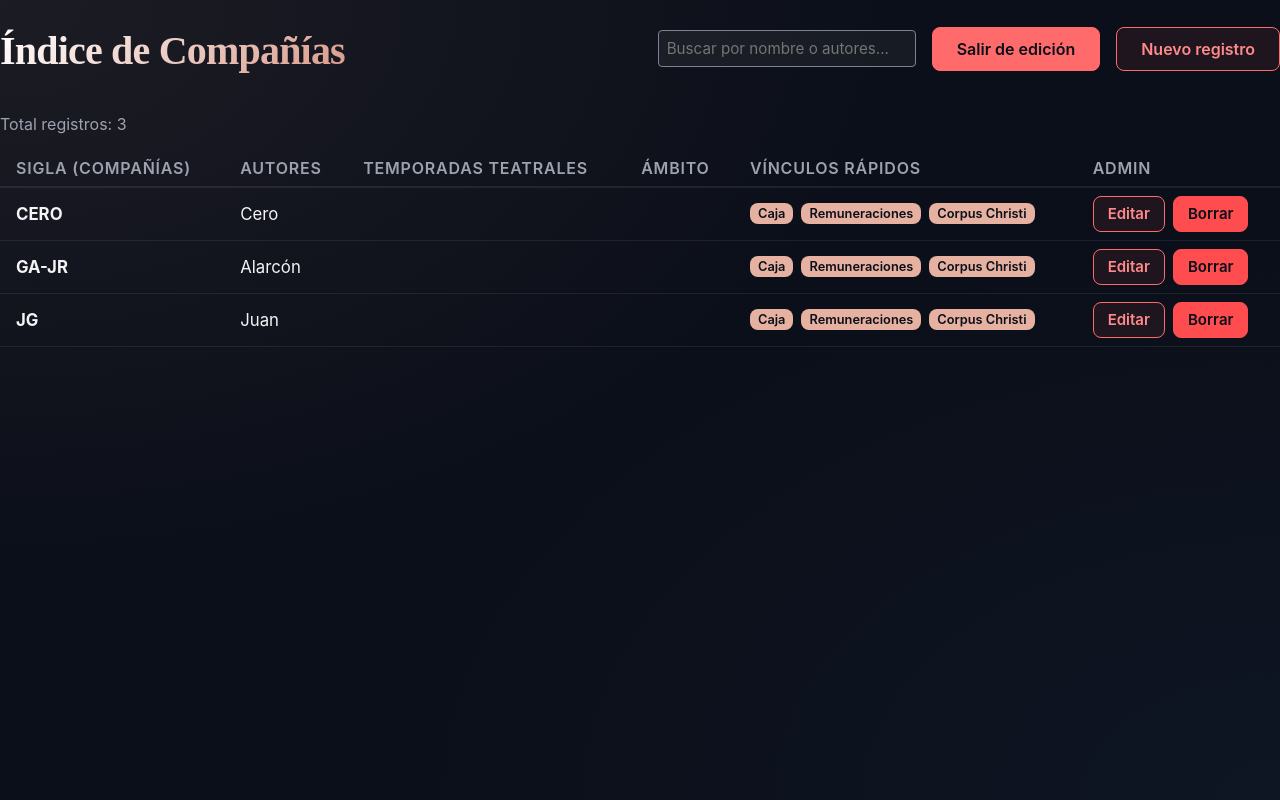
Test: borrado de compañías: integridad referencial › una compañía sin referencias se puede borrar (pide confirmación)
What coordinates should you click on to do the following:
click the button "Borrar" in the row of "GA-JR"
I would click on:
 (1211, 267)
Its box is [1173, 249, 1248, 285].
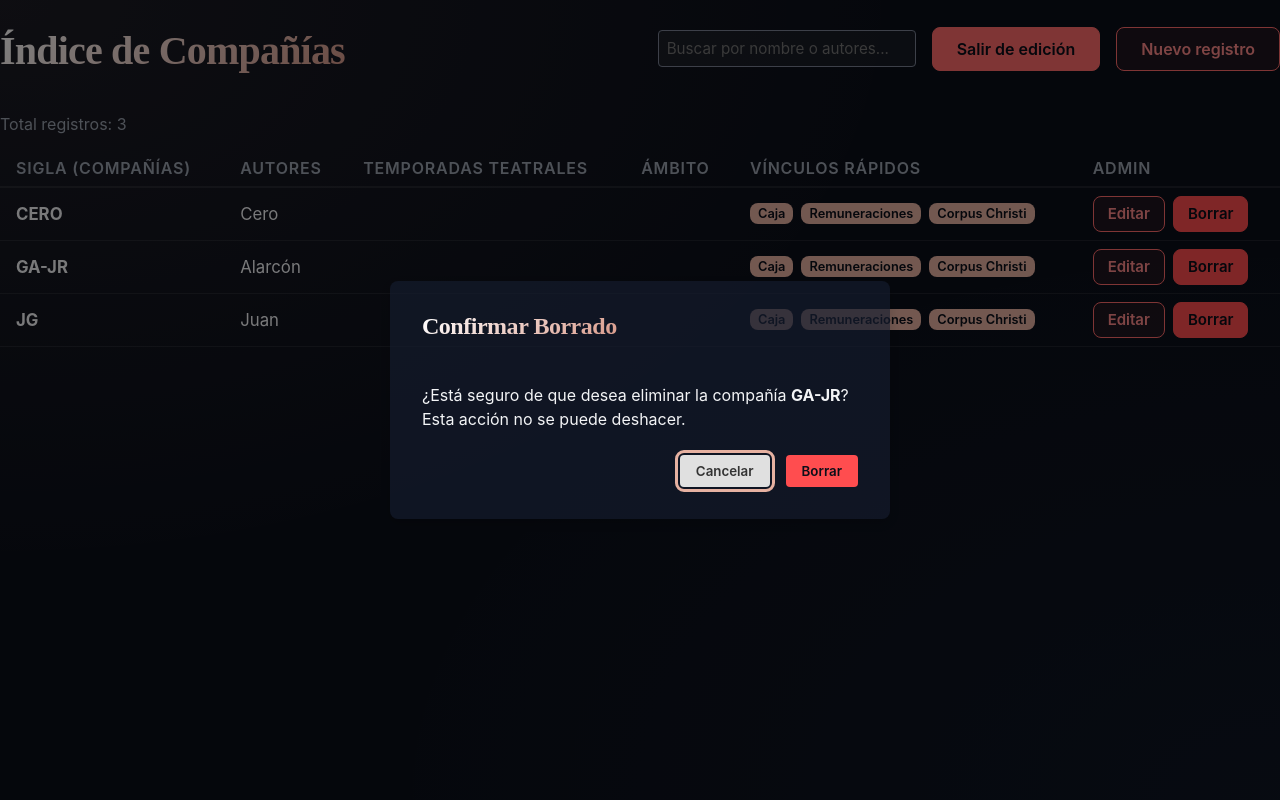
Check: the heading "Confirmar Borrado" is shown, box [422, 312, 617, 340]
